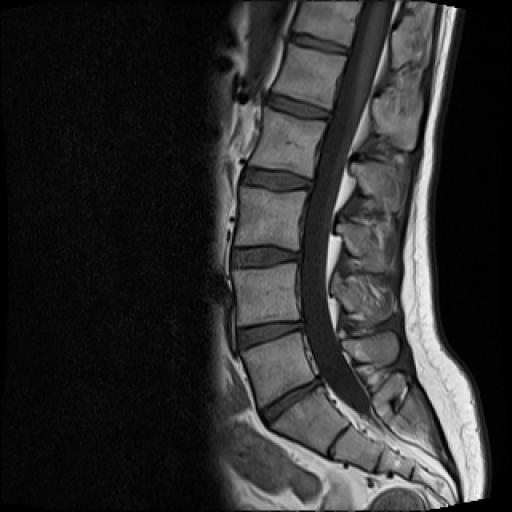L1: (273, 44, 346, 108)
L2: (250, 108, 325, 176)
L3: (234, 186, 306, 250)
L4: (233, 264, 300, 326)
L5: (240, 332, 314, 408)
S1: (272, 388, 347, 454)
